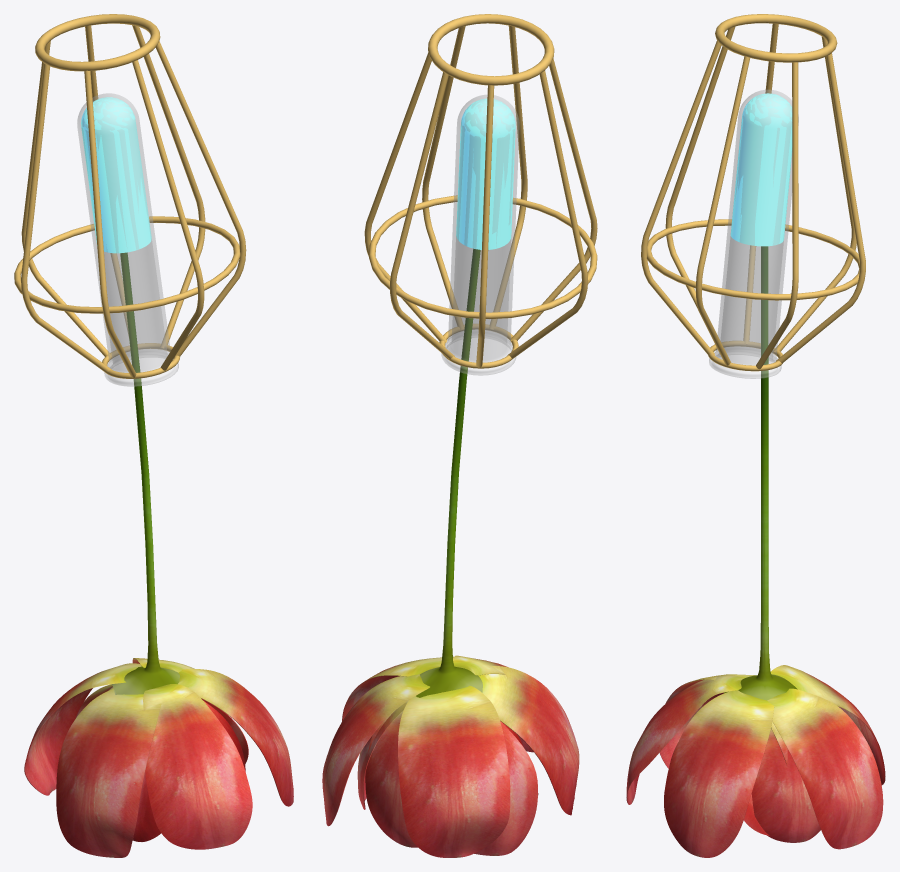
The picture shows the model from 3 angles, left to right: view 1: azimuth 30°, elevation 25°; view 2: azimuth 150°, elevation 25°; view 3: azimuth 270°, elevation 25°; orthographic projection. The views are drawn at different scales.
Parts seen in each view (by area): view 1: Stem; view 2: Stem; view 3: Stem.
Part boxes in pixels (x1,y1,x2,y2): Stem: (14, 14, 293, 857); Stem: (322, 14, 597, 857); Stem: (626, 14, 885, 857).
Size of the model in its own units: 7.36 by 22.36 by 6.73.
5 materials, 3 textured.
